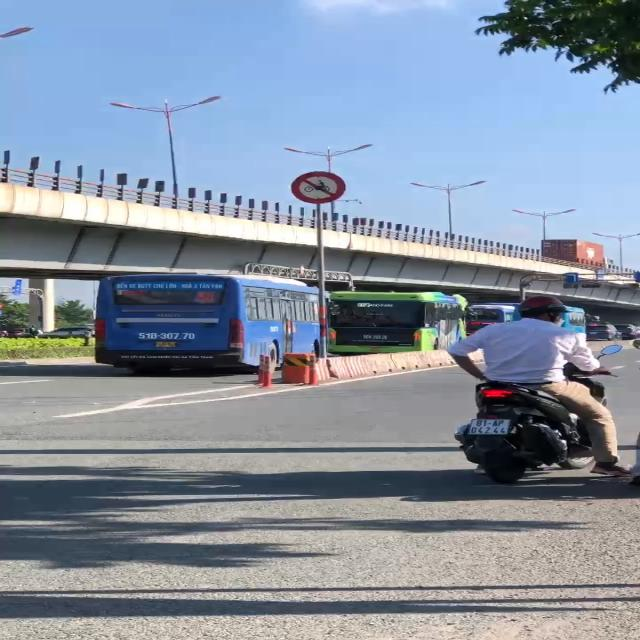Bien bao cam xe may: (278, 165, 348, 206)
